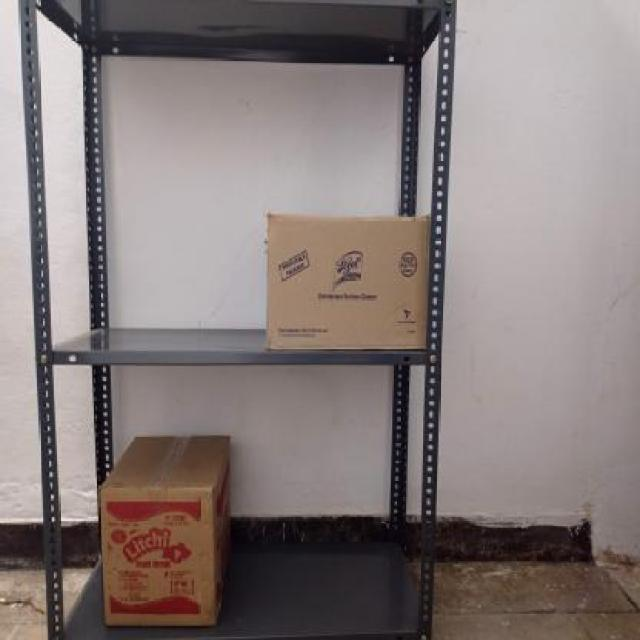box: (264, 215, 428, 352), (105, 486, 215, 628)
